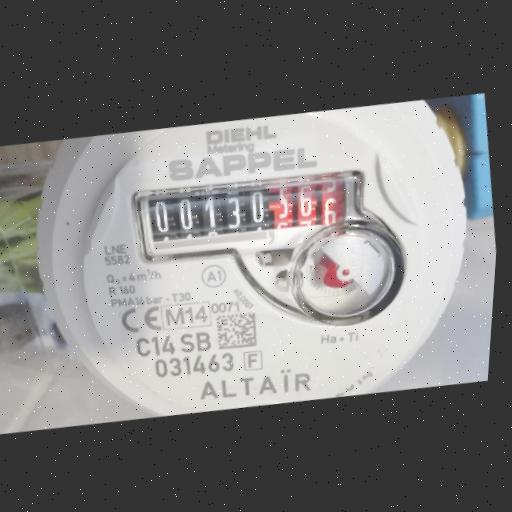0: (145, 195, 182, 243), (170, 193, 206, 239), (245, 186, 274, 232)
1: (196, 190, 230, 237)
3: (220, 187, 254, 234)
5: (264, 183, 302, 231)
6: (314, 178, 352, 239), (292, 180, 329, 227)
border_water_meter_number: (126, 159, 373, 274)
